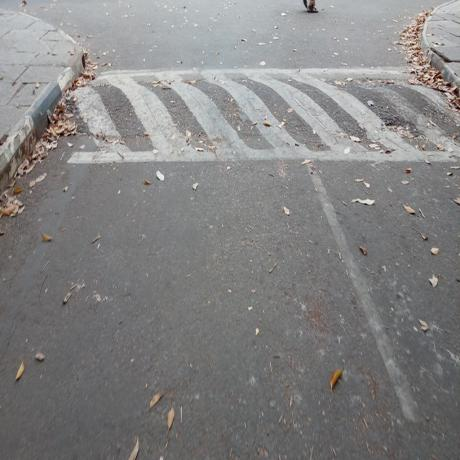Speed Bump: (64, 67, 457, 162)
